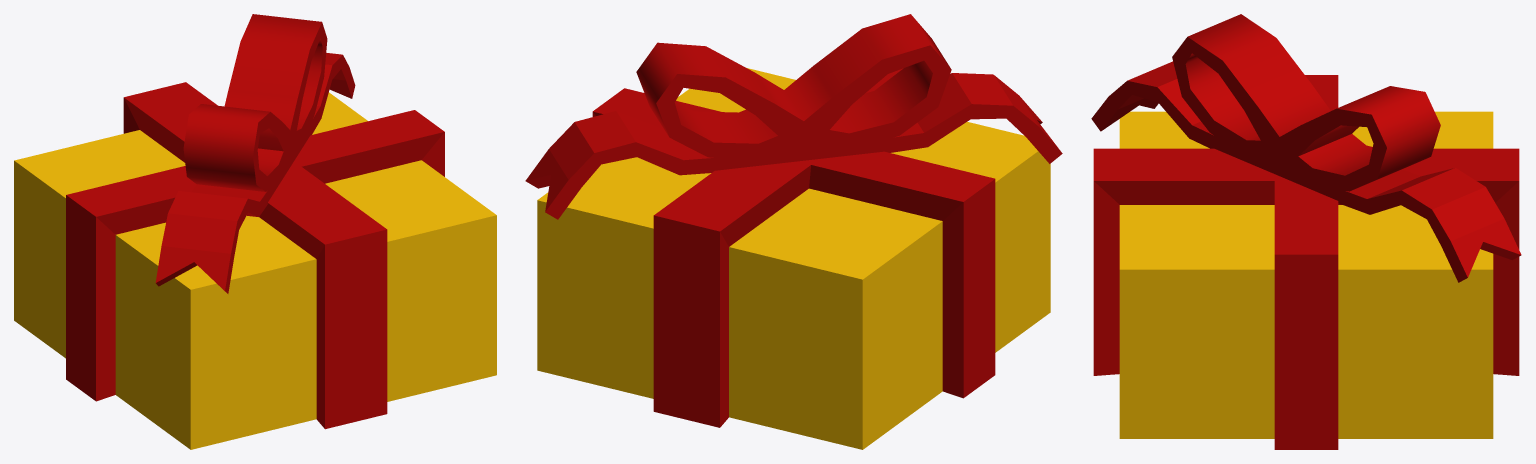
The model's file is Presents11.fbx.
3 renders of one model, left to right at view 1: azimuth 30°, elevation 25°; view 2: azimuth 150°, elevation 25°; view 3: azimuth 270°, elevation 25°, orthographic. The views are drawn at different scales.
Parts seen in each view (by area): view 1: Present11; view 2: Present11; view 3: Present11.
Part boxes in pixels (box(x1,y1,x2,y2)): Present11: box(14, 14, 496, 449); Present11: box(525, 14, 1062, 449); Present11: box(1091, 14, 1521, 449).
Bounding box in the file's own units: 46.08 × 34.94 × 46.08.
